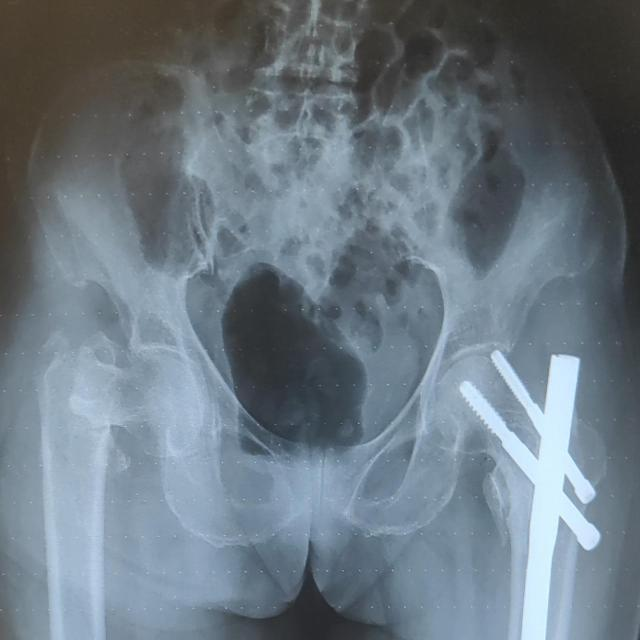right-grater-trochanter: (40, 331, 69, 350)
right-intertrochanteric: (71, 330, 206, 458), (36, 349, 110, 514)
right-lesser-trochanter: (109, 436, 130, 476)
